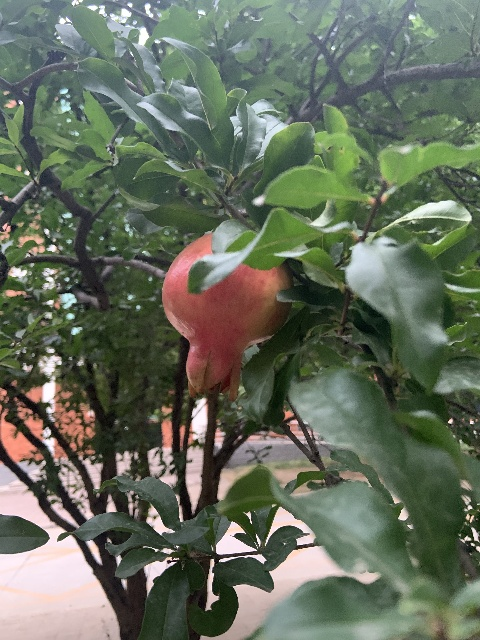ripe: (162, 232, 292, 402)
